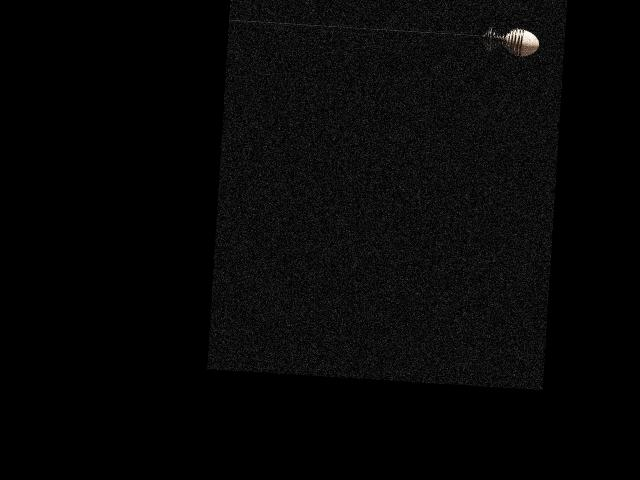egg: (504, 28, 540, 57)
